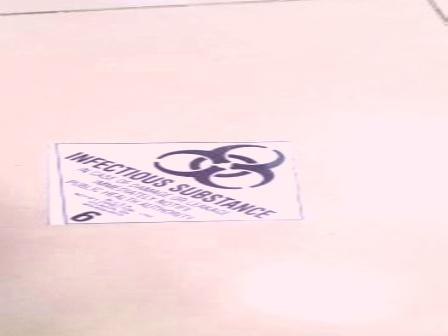infectious-substance: (53, 139, 305, 224)
